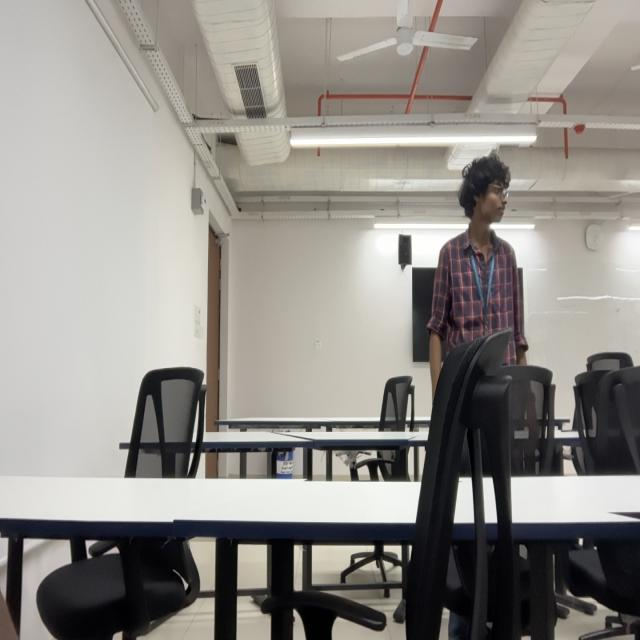darshan: (459, 146, 514, 228)
